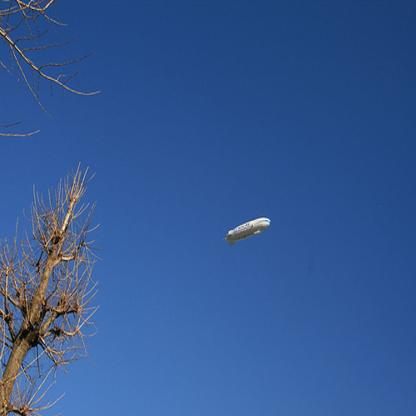Airship: (221, 213, 276, 250)
